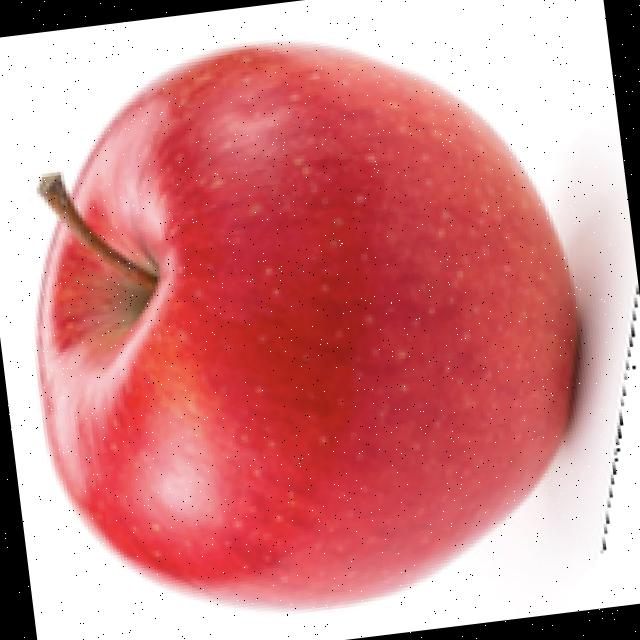apple: (29, 35, 638, 615)
